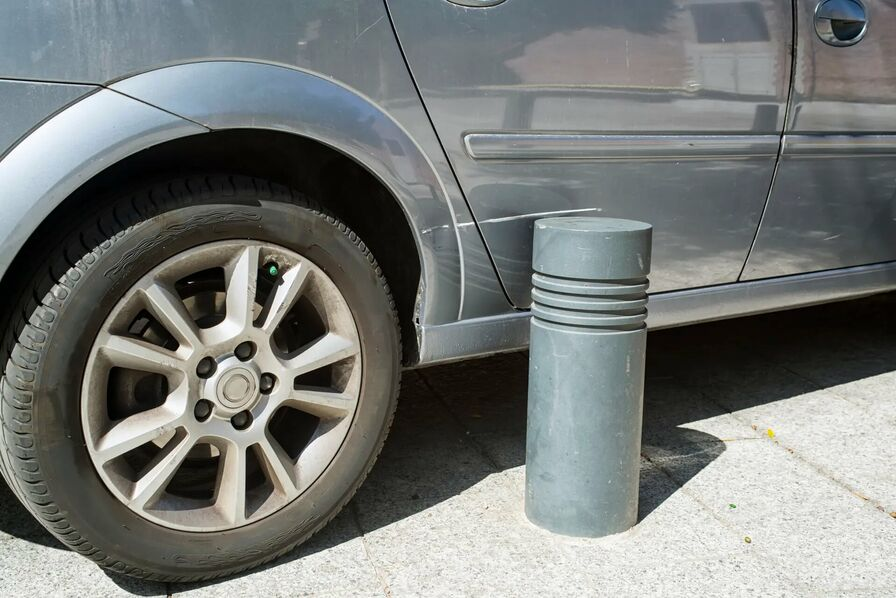scratch: (423, 199, 609, 242)
